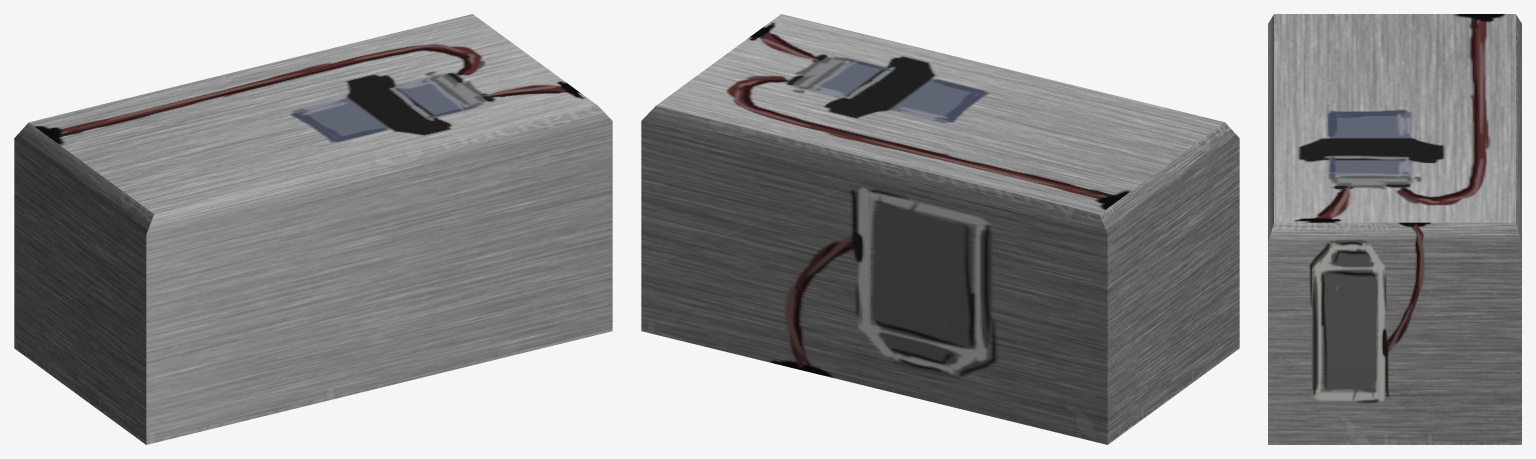
The model's file is metalthing.fbx.
The picture shows the model from 3 angles, left to right: view 1: azimuth 30°, elevation 25°; view 2: azimuth 150°, elevation 25°; view 3: azimuth 270°, elevation 25°; orthographic projection. The views are drawn at different scales.
Parts seen in each view (by area): view 1: metalThing; view 2: metalThing; view 3: metalThing.
Boxes of the visible parts, box(x1,y1,x2,y2) form: metalThing: box(14, 14, 612, 444); metalThing: box(641, 14, 1239, 444); metalThing: box(1268, 14, 1521, 444).
Bounding box in the file's own units: 11.99 × 5.54 × 5.87.
Materials: 1 (1 with a texture image).
